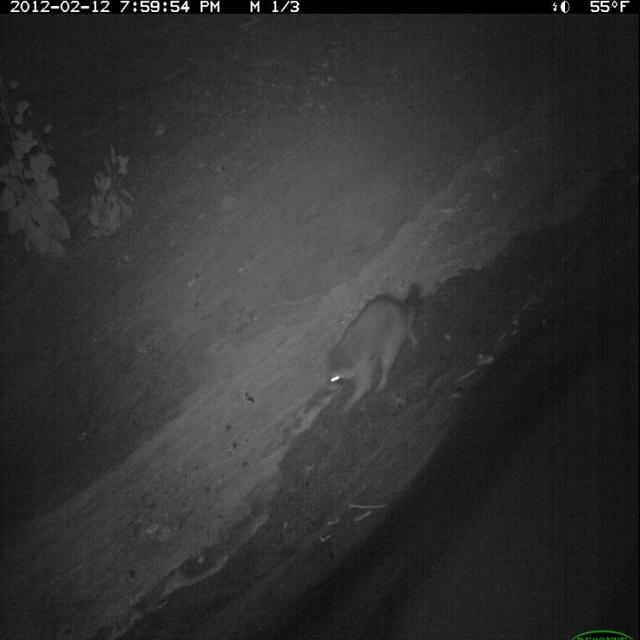raccoon: (319, 277, 425, 422)
